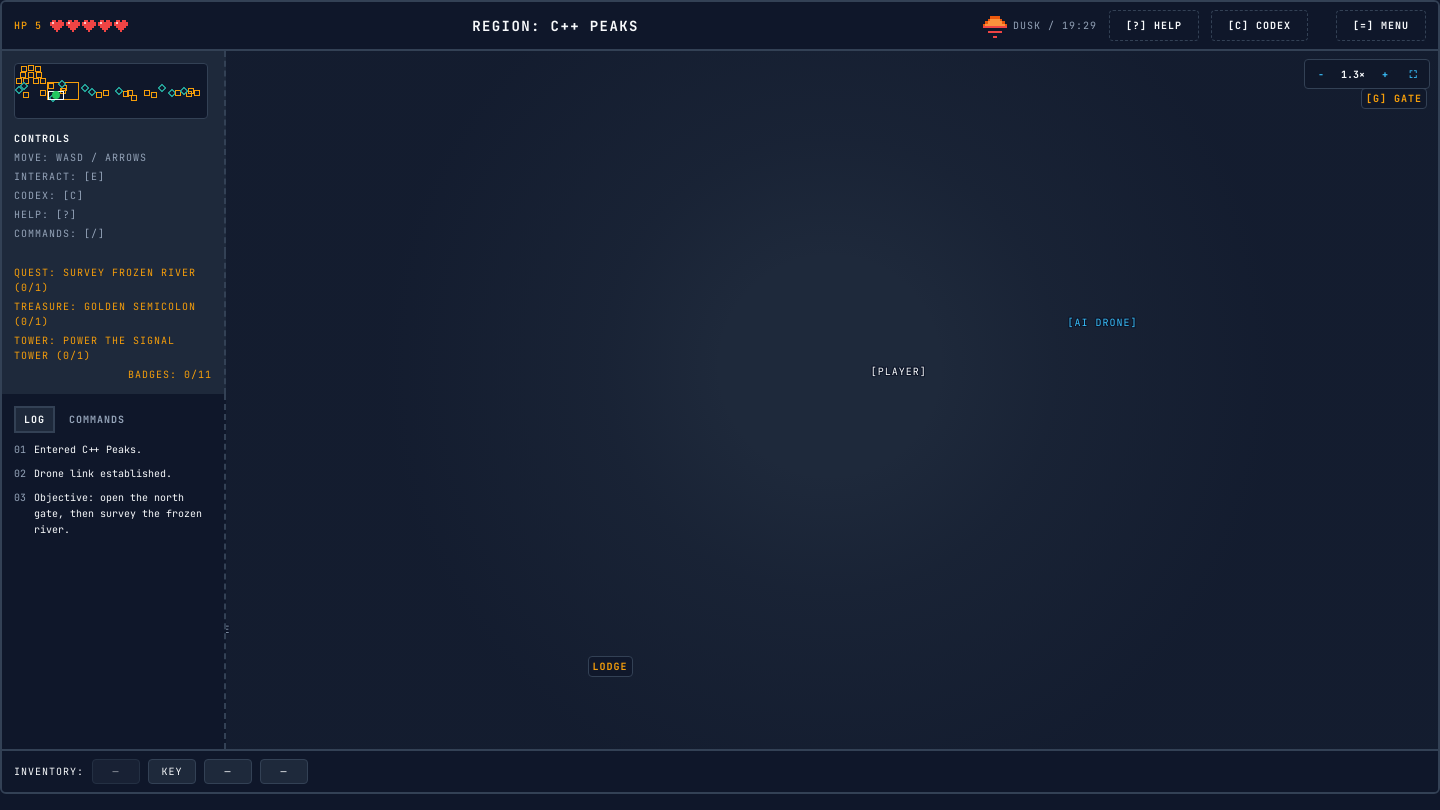
Test: Overworld terminal puzzle › using the hint item reveals the drone's hint
What coordinates should you click on to do the following:
click the button "[G] Gate"
I would click on:
 (1385, 54)
Its box is [1330, 22, 1439, 86].
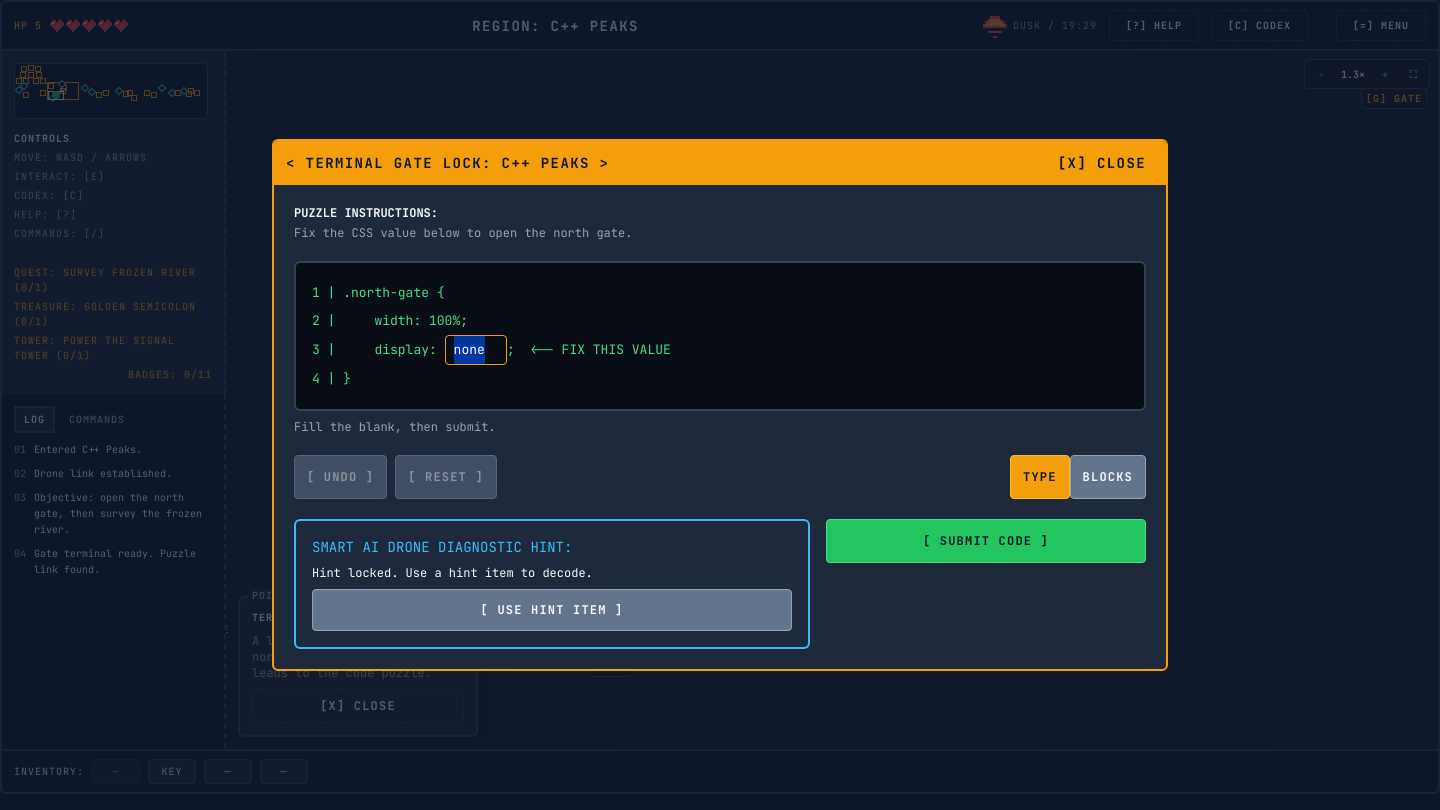
What coordinates should you click on to do the following:
click the button "[ USE HINT ITEM ]"
I would click on:
 (552, 610)
Its box is [312, 589, 792, 631].
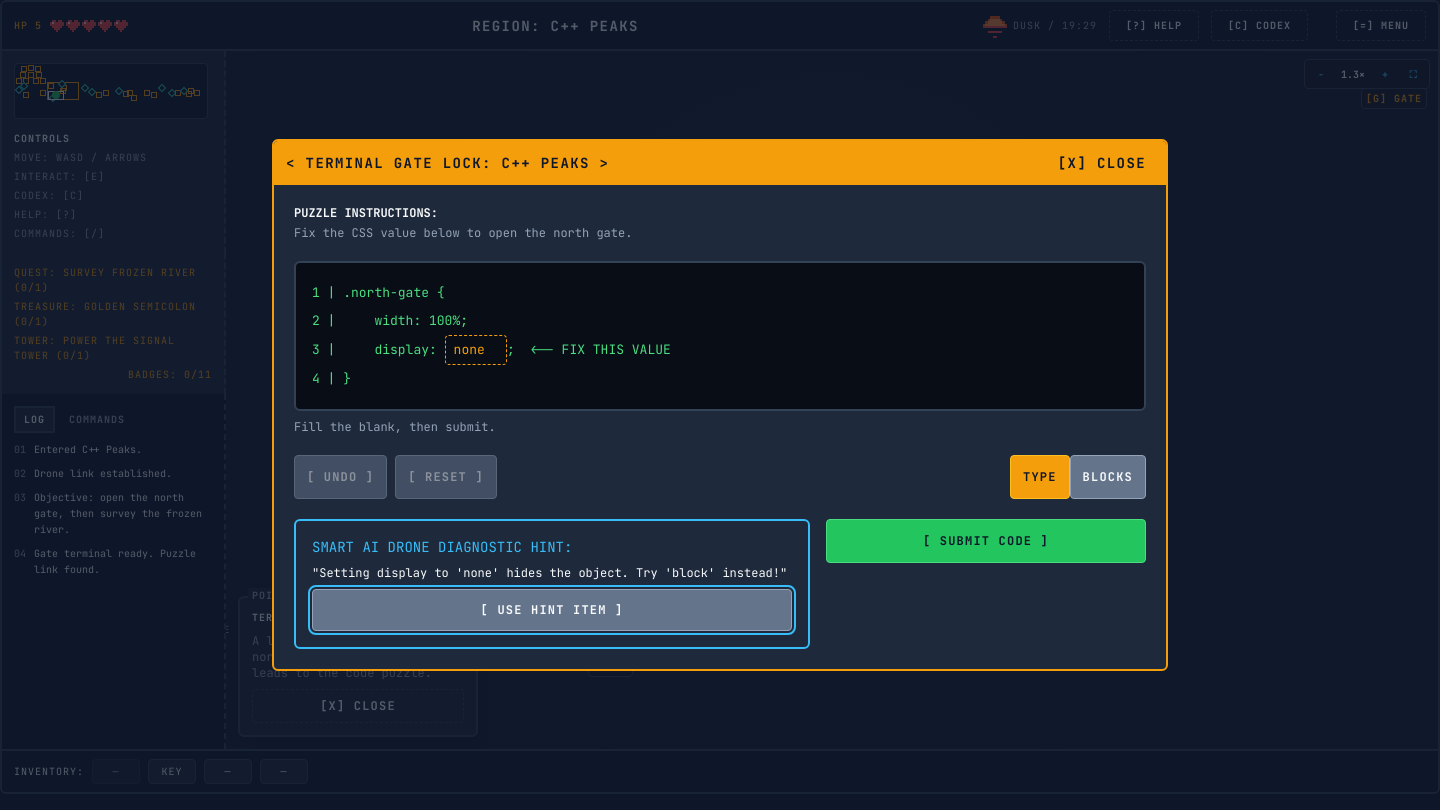
Check: the text "\"Setting display to 'none' hides the object. Try 'block' instead!\"" is shown, box [312, 565, 792, 581]
